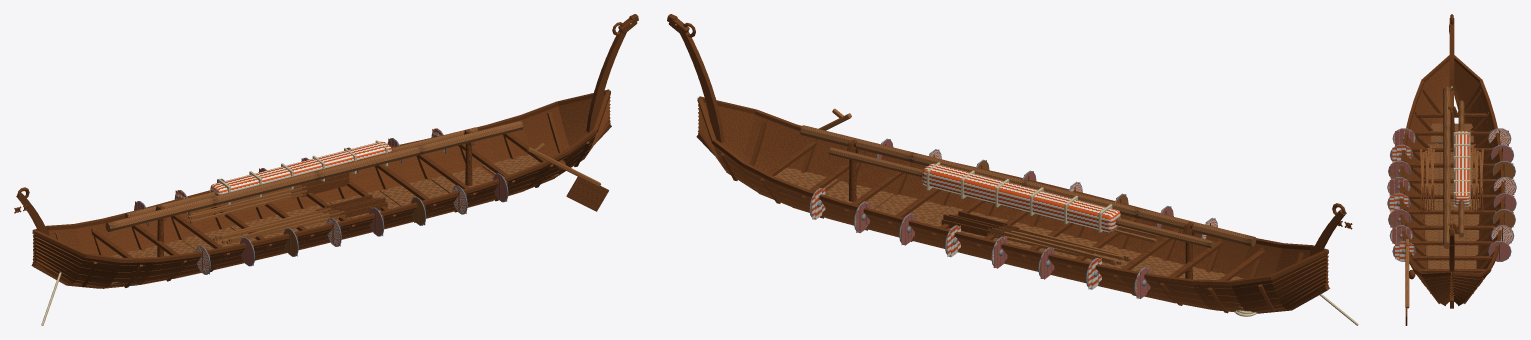
Rendered from viking-age-longhouse-and-longship-viking-longship-beac-ccecbbc5__30187.glb.
The picture shows the model from 3 angles, left to right: view 1: azimuth 30°, elevation 25°; view 2: azimuth 150°, elevation 25°; view 3: azimuth 270°, elevation 25°; orthographic projection. The views are drawn at different scales.
Parts seen in each view (by area): view 1: viking-longship-beached, steering-oar/oak, steering-oar/ash; view 2: viking-longship-beached; view 3: viking-longship-beached, steering-oar/ash.
Part boxes in pixels (<box>): viking-longship-beached: <box>14,14,638,325</box>; steering-oar/oak: <box>566,176,608,211</box>; steering-oar/ash: <box>527,142,600,186</box>; viking-longship-beached: <box>667,14,1358,325</box>; viking-longship-beached: <box>1387,14,1516,308</box>; steering-oar/ash: <box>1405,239,1409,308</box>.
Bounding box in the file's own units: 17.86 × 4.33 × 4.12.
9 materials, 6 textured.
